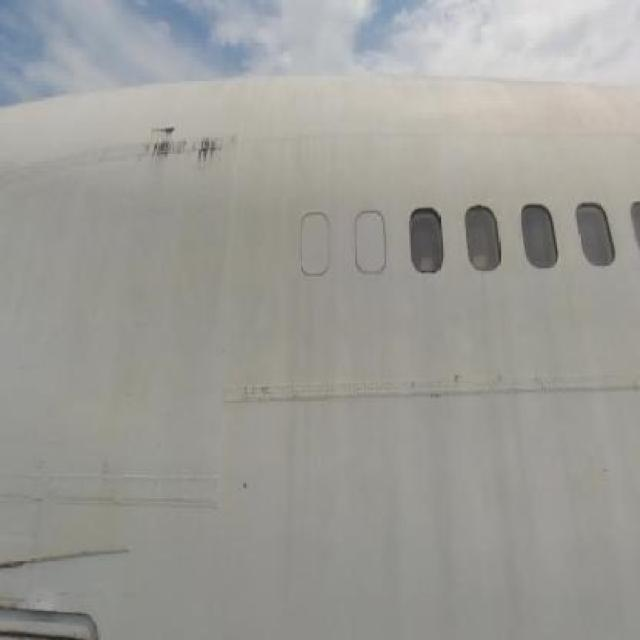Rust: (139, 110, 263, 176)
